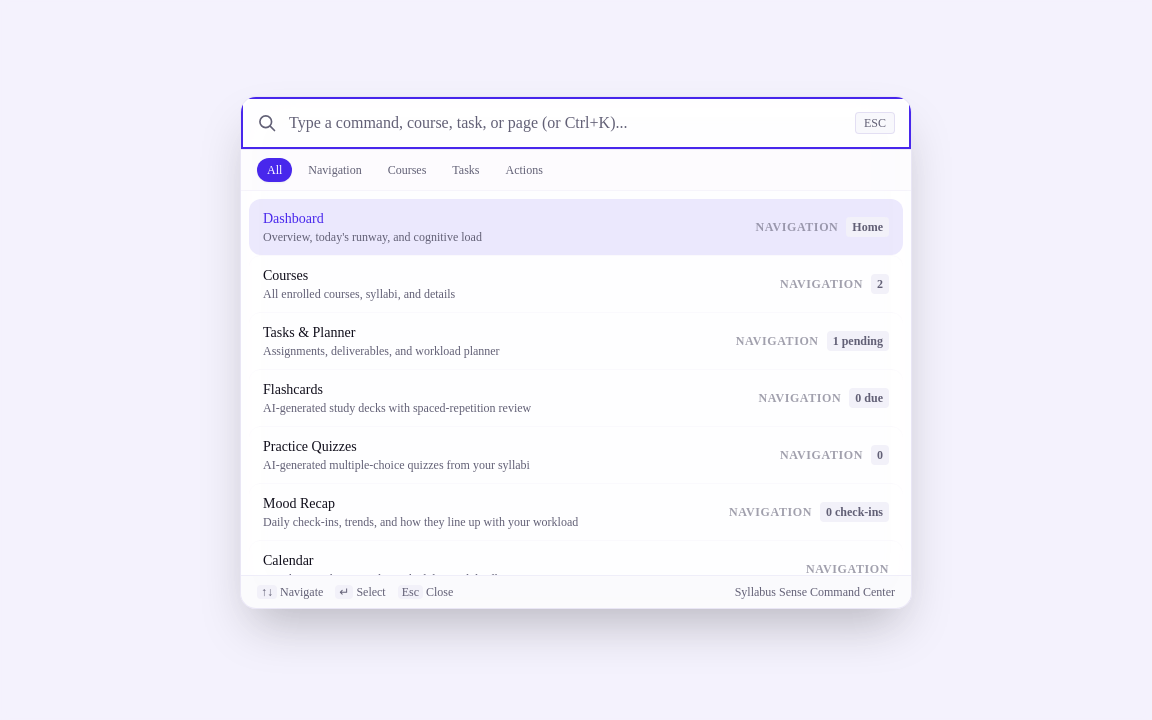
CommandPalette (Item 34) › filters items in real-time as user types query
Type "Linear Algebra" into the dropdown with placeholder "Type a command, course, task, or page (or Ctrl+K)..." at (572, 123), box x1=289 y1=111 x2=855 y2=135
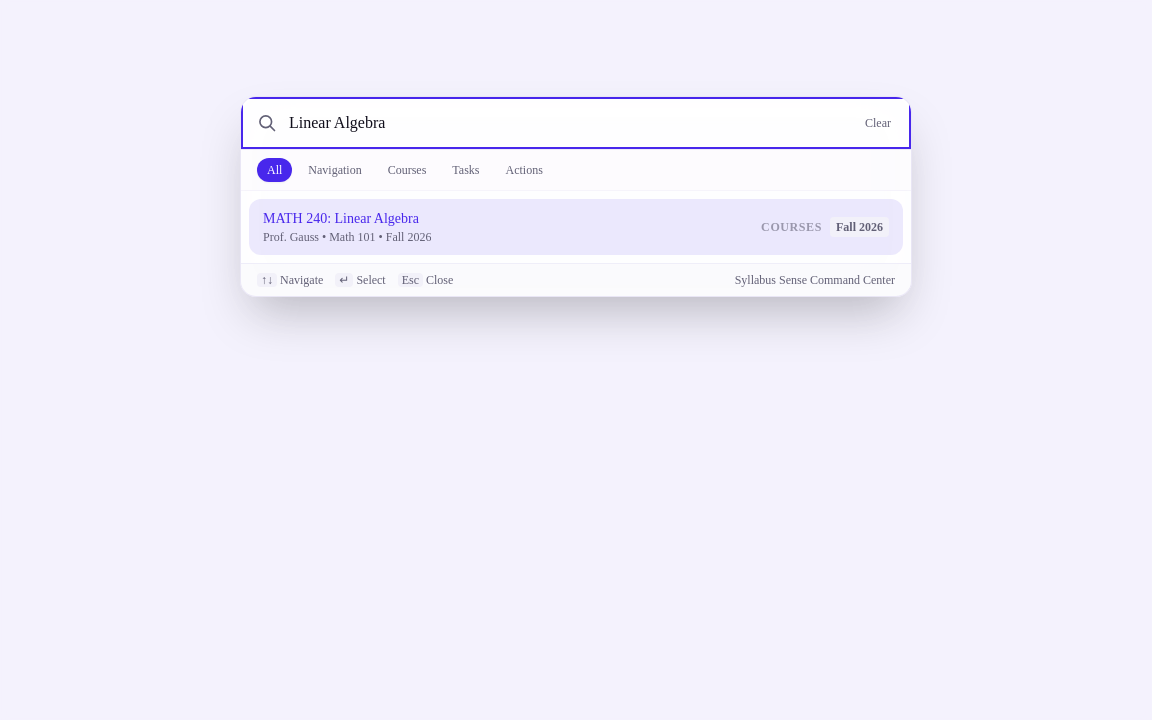
Expected: the text "MATH 240: Linear Algebra" is shown, x1=263 y1=209 x2=431 y2=229
